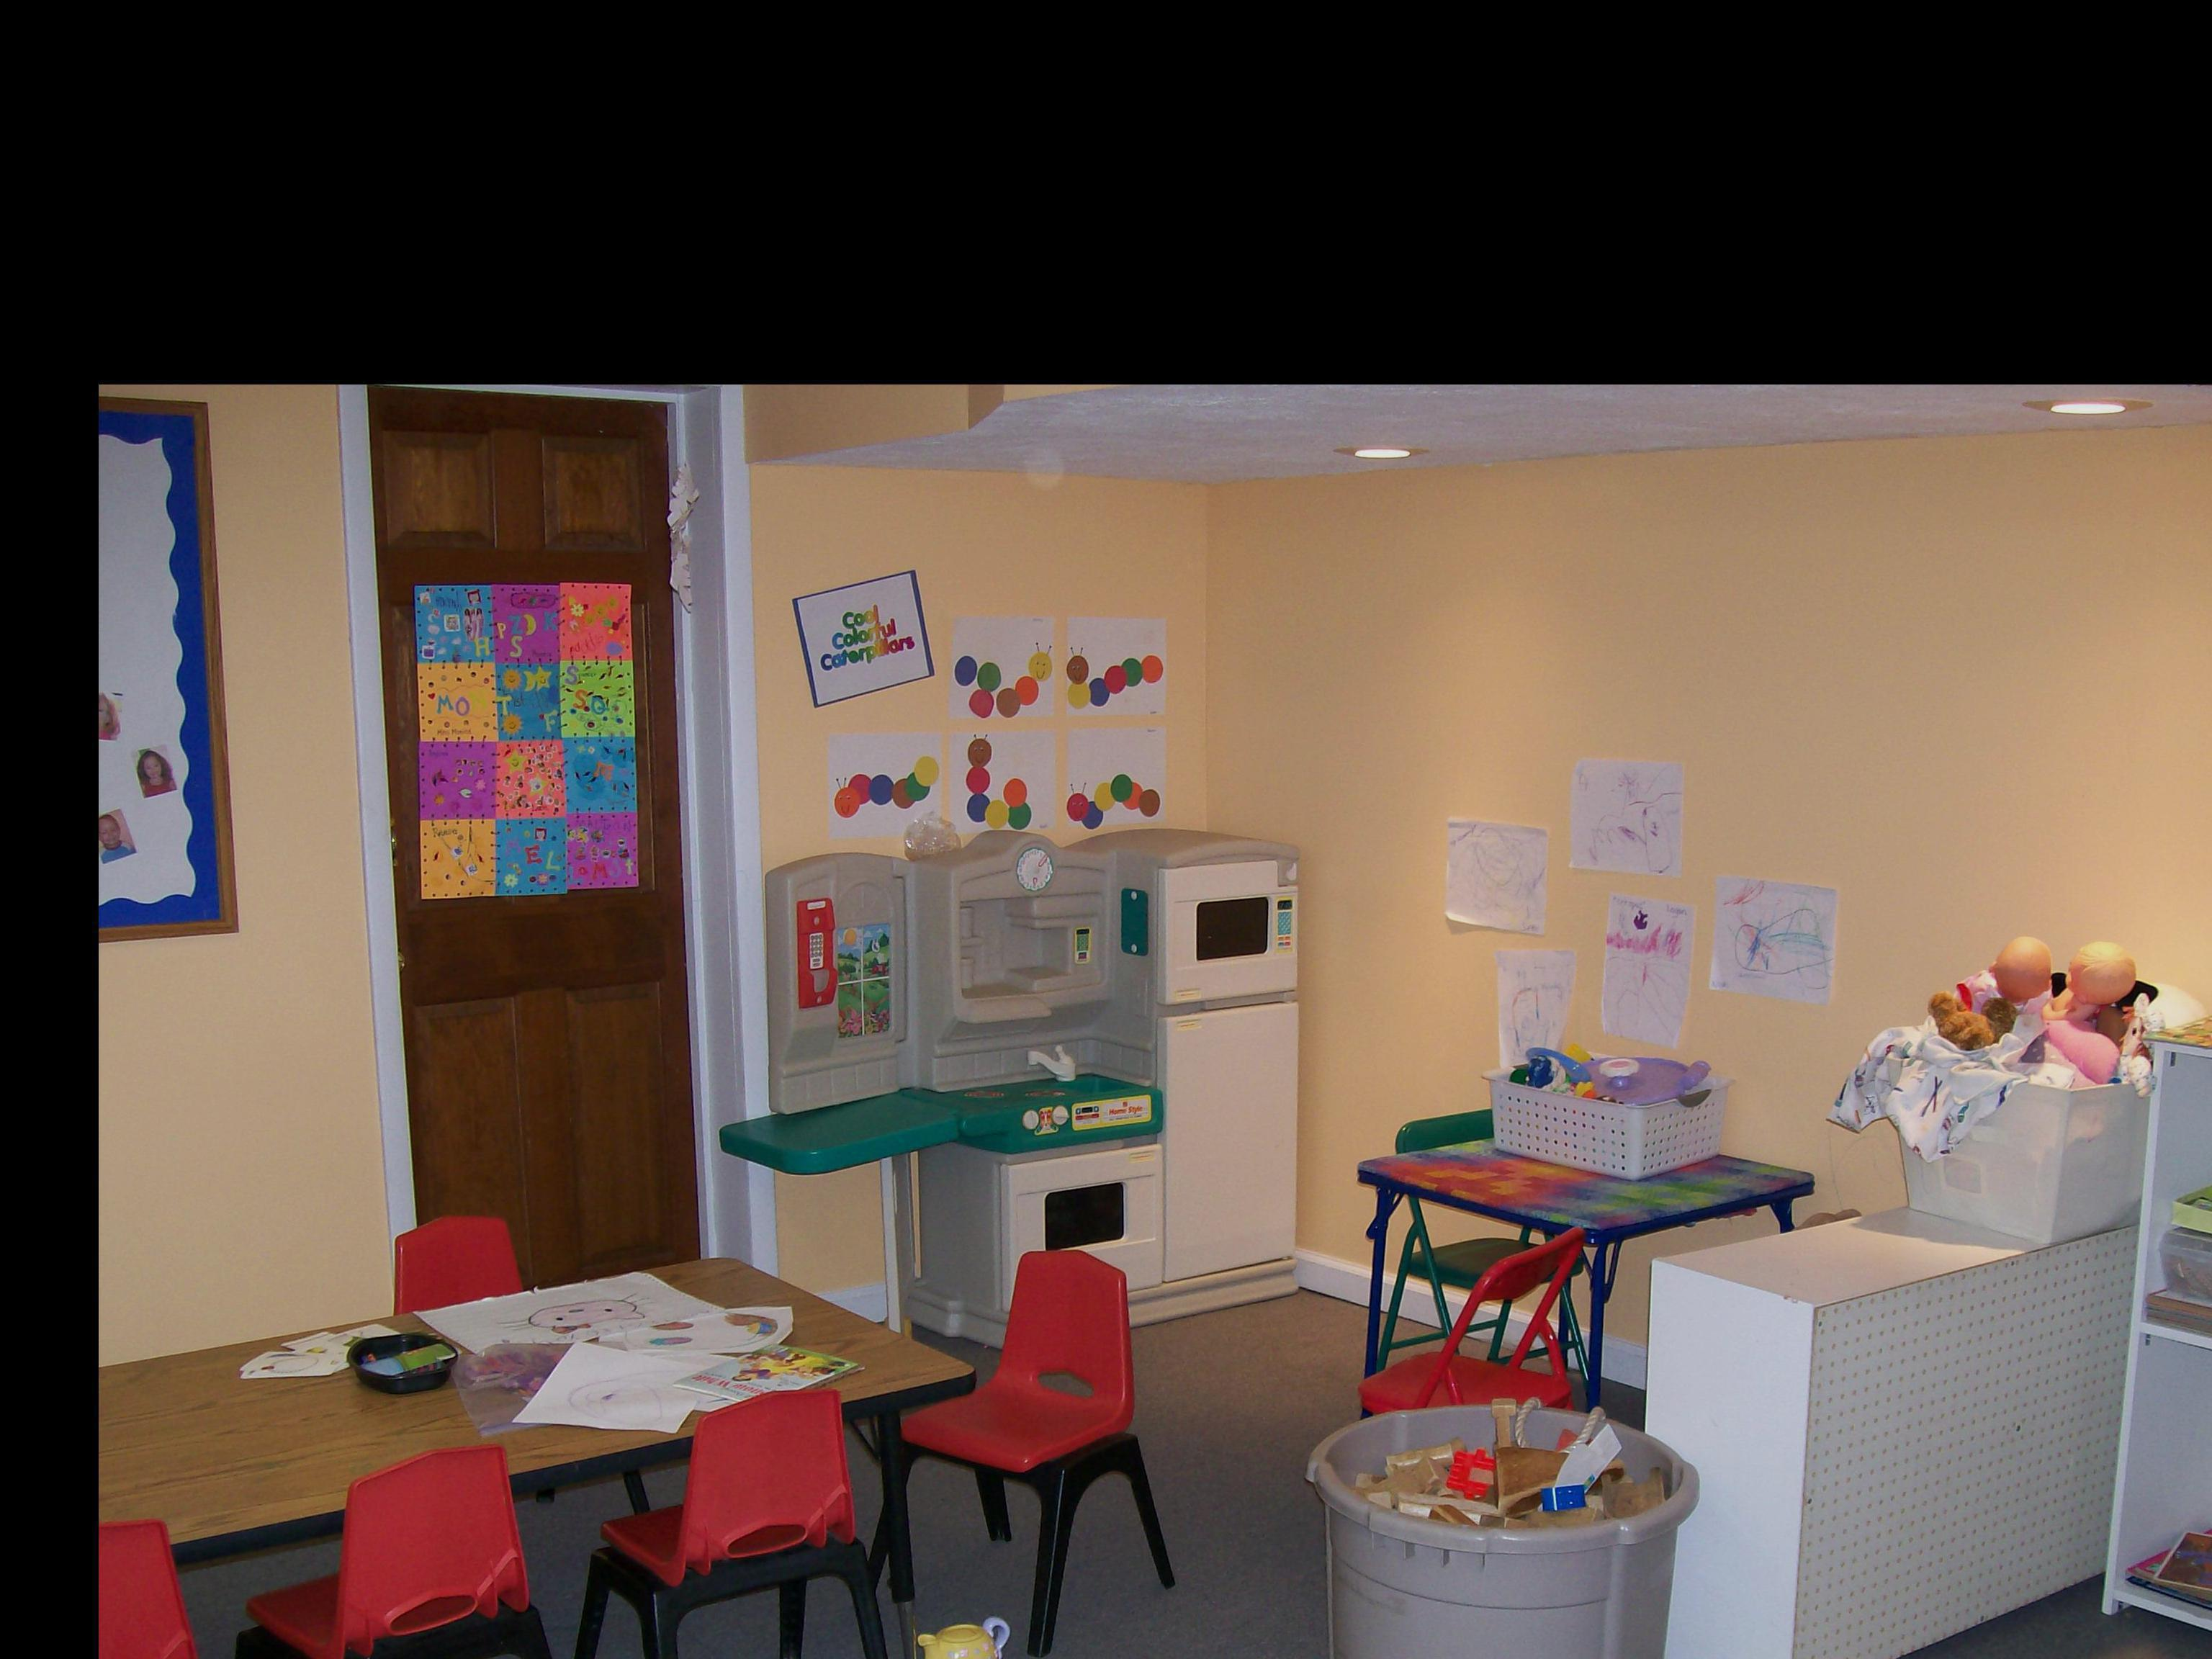Bote de Basura: (1310, 1392, 1705, 1659)
Puerta: (366, 403, 712, 1248)
